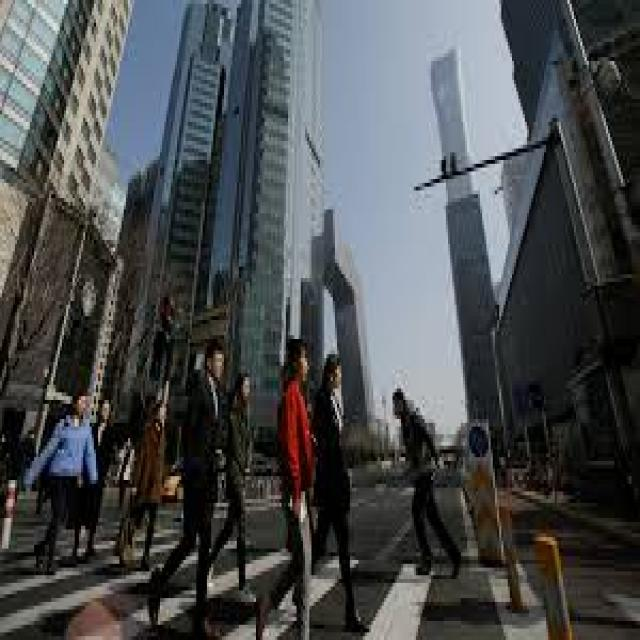Pedestrians: (156, 332, 228, 632), (260, 339, 320, 640), (316, 354, 373, 636), (390, 385, 468, 579), (216, 366, 258, 598)
